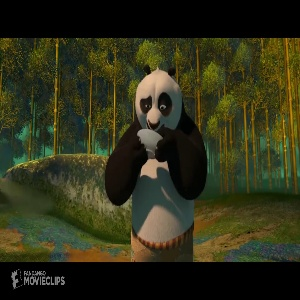po: (104, 62, 210, 261)
